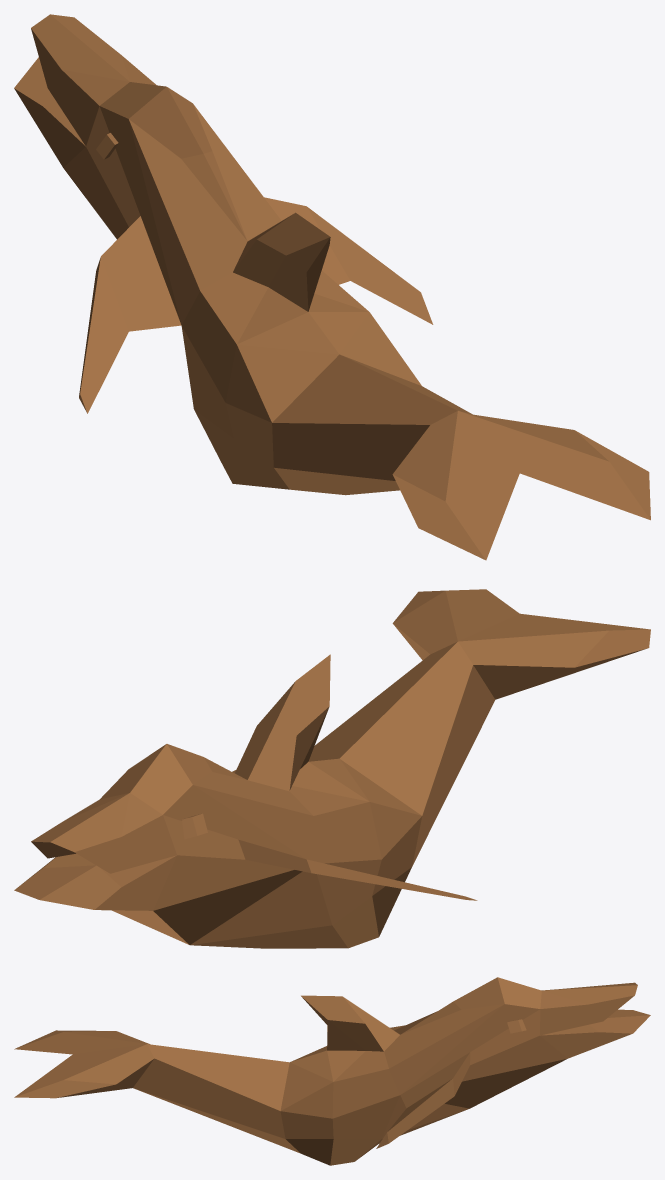
The model's file is Fungie.glb.
3 renders of one model, top to bottom at view 1: azimuth 30°, elevation 25°; view 2: azimuth 150°, elevation 25°; view 3: azimuth 270°, elevation 25°, orthographic. The views are drawn at different scales.
Parts seen in each view (by area): view 1: Cube; view 2: Cube; view 3: Cube.
Part boxes in pixels (left/top/right/bottom): Cube: left=14, top=14, right=650, bottom=560; Cube: left=14, top=589, right=650, bottom=948; Cube: left=14, top=977, right=650, bottom=1165.
Size of the model in its own units: 5.22 by 3.83 by 13.25.
